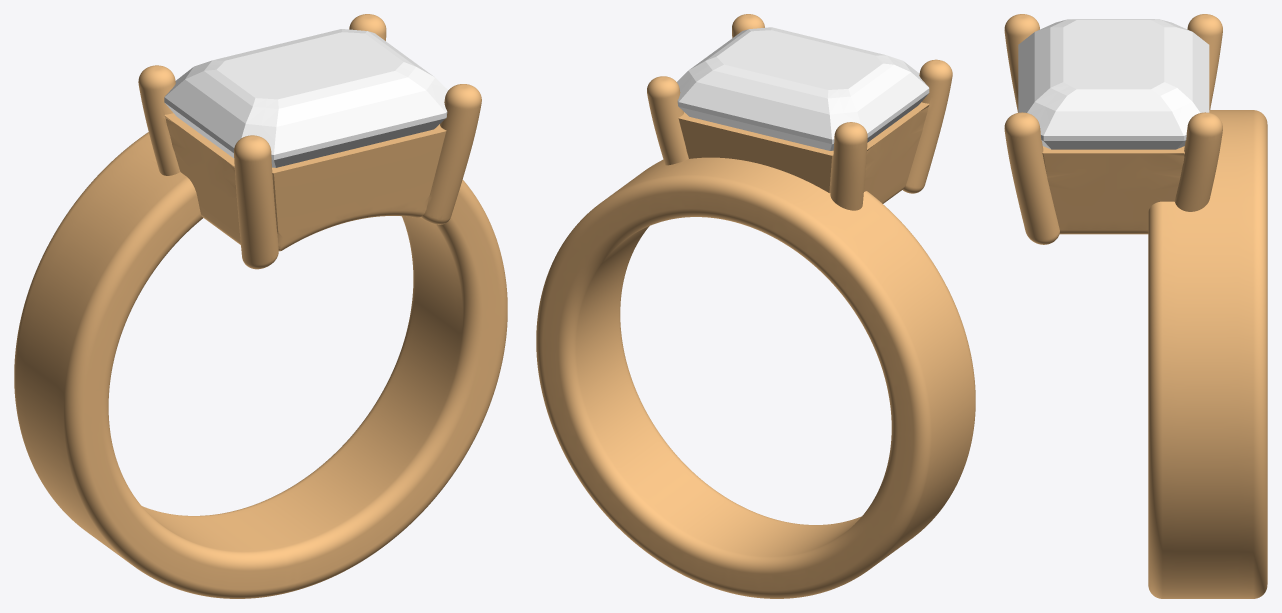
The picture shows the model from 3 angles, left to right: view 1: azimuth 30°, elevation 25°; view 2: azimuth 150°, elevation 25°; view 3: azimuth 270°, elevation 25°; orthographic projection. The views are drawn at different scales.
Parts seen in each view (by area): view 1: /401130Masina DiamondsA.3dm; view 2: /401130Masina DiamondsA.3dm; view 3: /401130Masina DiamondsA.3dm.
Boxes of the visible parts, bbox=[...] form: /401130Masina DiamondsA.3dm: bbox=[14, 14, 507, 598]; /401130Masina DiamondsA.3dm: bbox=[536, 14, 975, 598]; /401130Masina DiamondsA.3dm: bbox=[1004, 14, 1267, 598].
Size of the model in its own units: 2.45 by 2.88 by 1.32.
